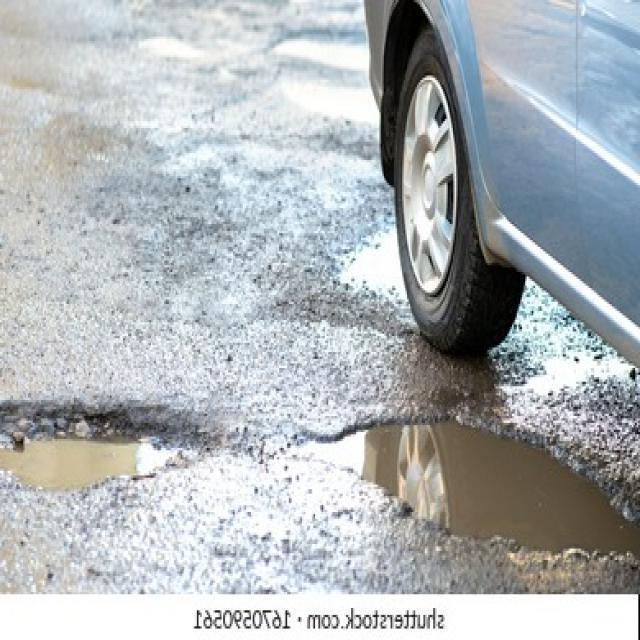pothole: (289, 412, 640, 565), (0, 395, 219, 500)
